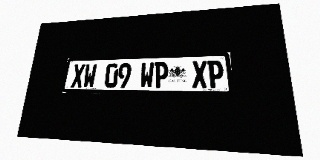0: (104, 63, 119, 88)
9: (117, 63, 132, 88)
P: (207, 60, 224, 88), (154, 62, 168, 88)
W: (140, 62, 154, 88), (82, 64, 97, 88)
X: (192, 61, 208, 88), (71, 64, 85, 88)
